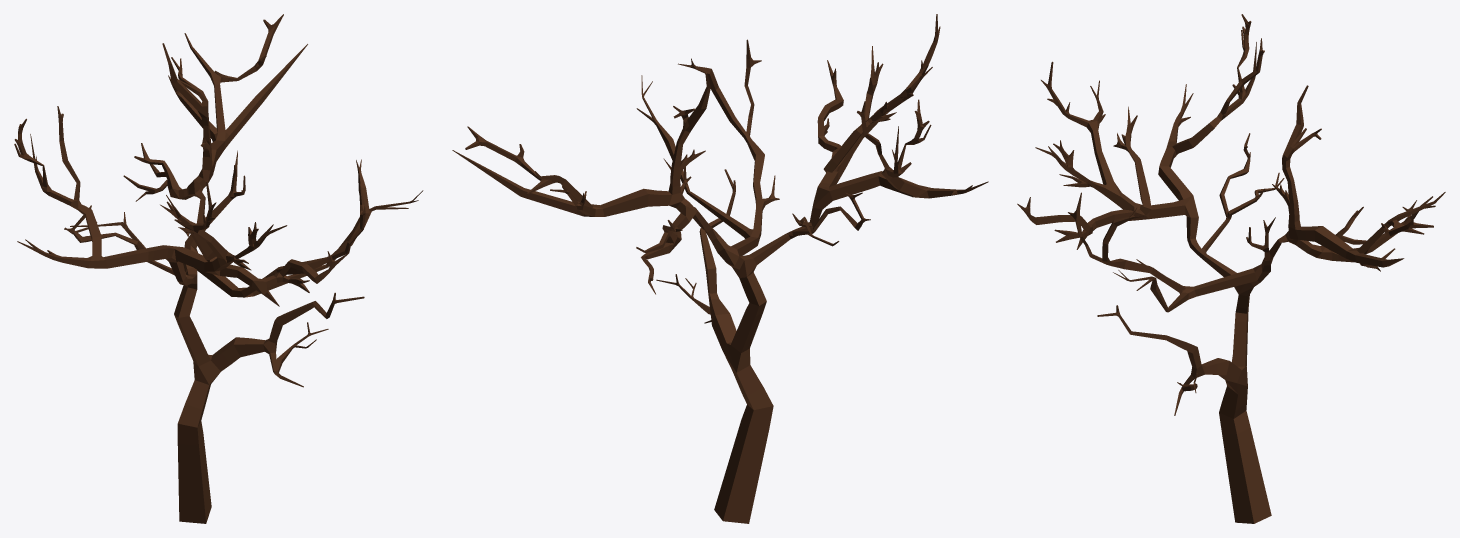
The model's file is Tree_1.glb.
3 views of the same model, side by side, from view 1: azimuth 30°, elevation 25°; view 2: azimuth 150°, elevation 25°; view 3: azimuth 270°, elevation 25° (orthographic). The views are drawn at different scales.
Parts seen in each view (by area): view 1: tree_1; view 2: tree_1; view 3: tree_1.
Part boxes in pixels (x1,y1,x2,y2): tree_1: (14,14,423,523); tree_1: (452,14,988,523); tree_1: (1017,14,1445,523).
Bounding box in the file's own units: 4.36 × 4.68 × 4.18.
